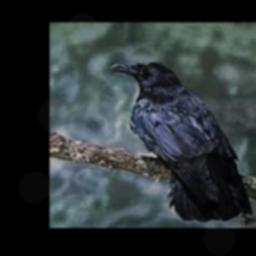Crow: (110, 61, 253, 222)
